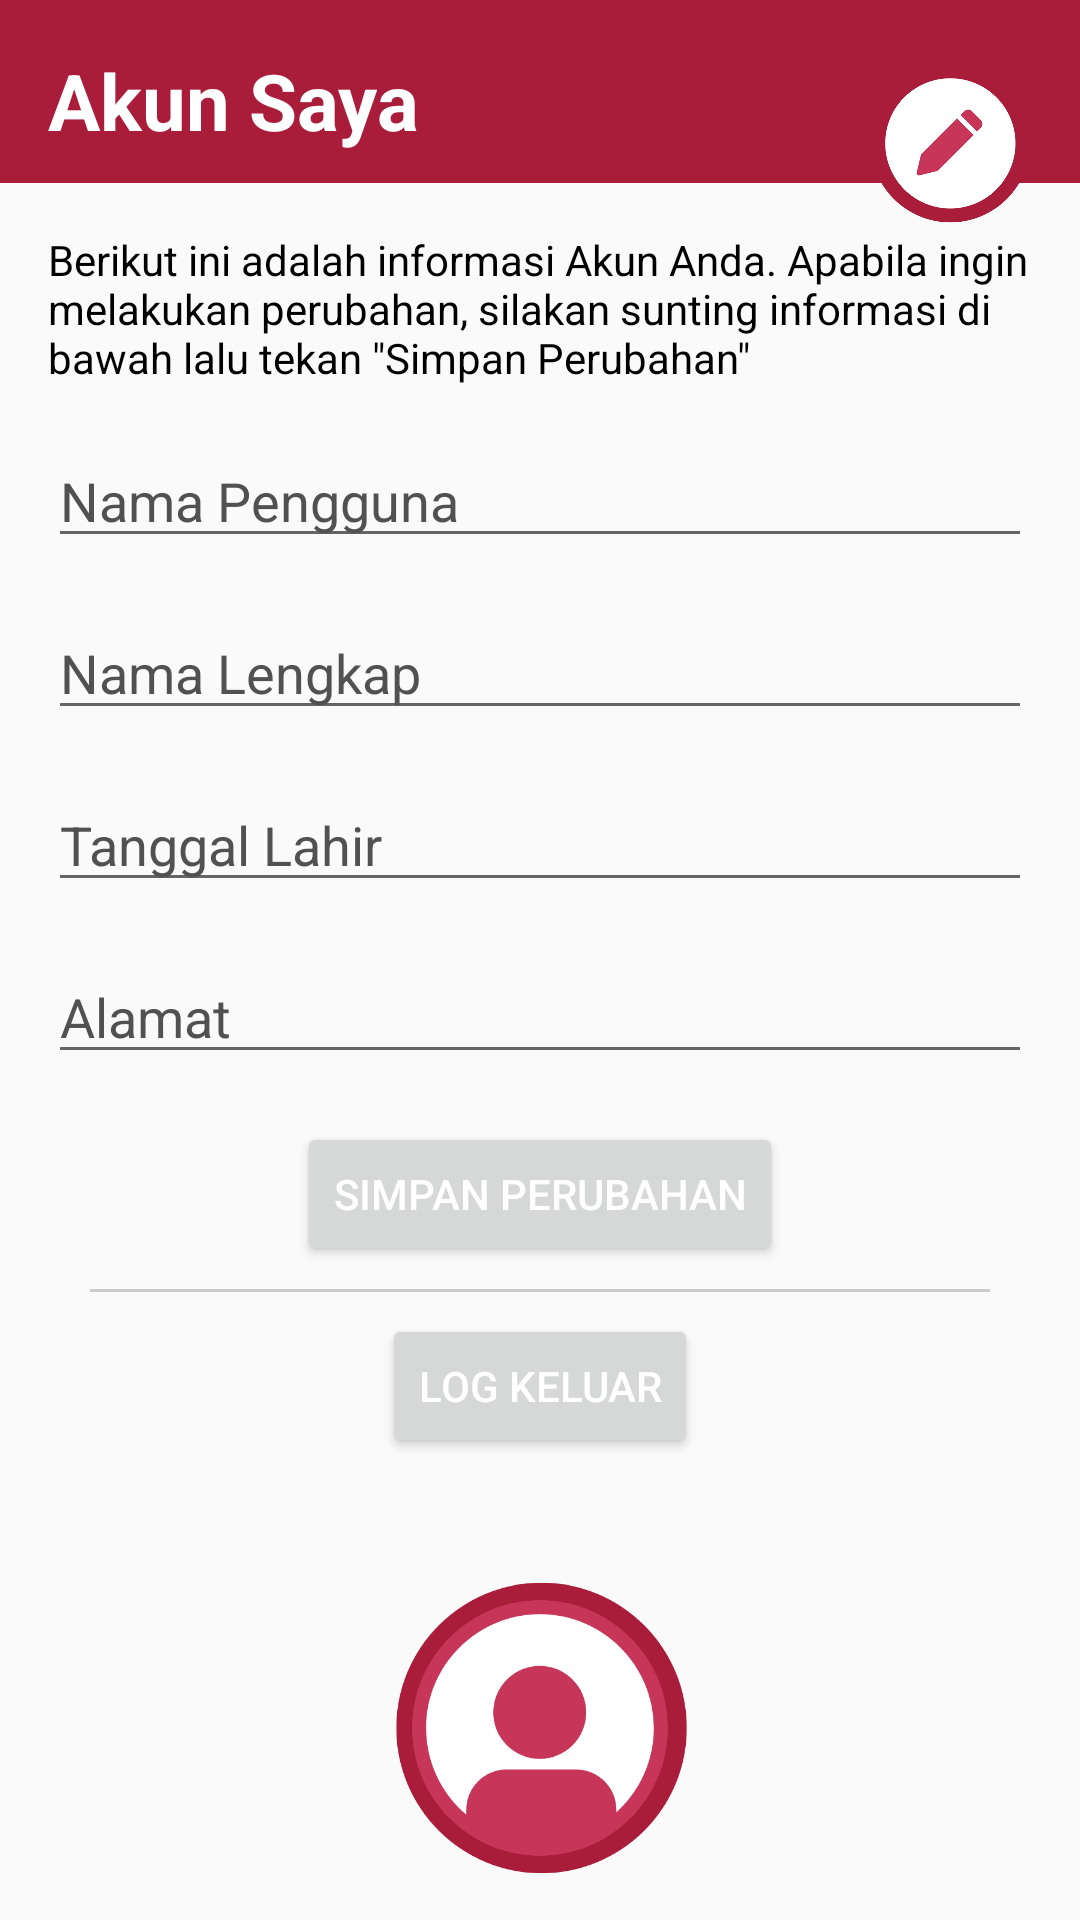

Screen size 1080*1920. Icon name, then its box in pixels as (x1, y1, x2, y2):
editacc: (885, 78, 1016, 209)
Foto profil: (396, 1583, 687, 1873)
